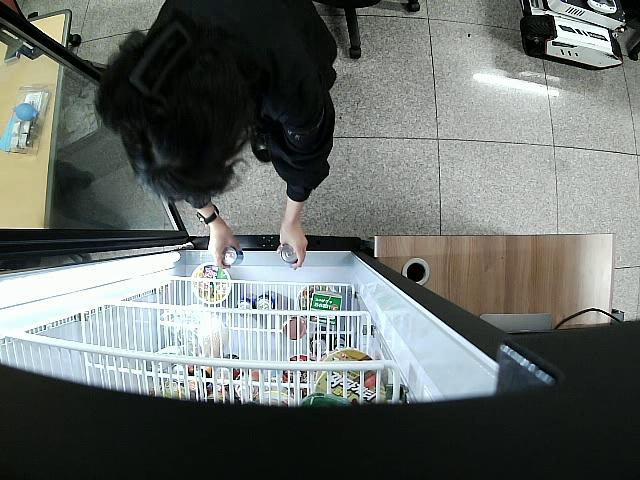00_hand: (277, 215, 309, 271), (207, 226, 242, 269)
15_letsbe: (280, 245, 300, 265), (221, 245, 239, 267)
